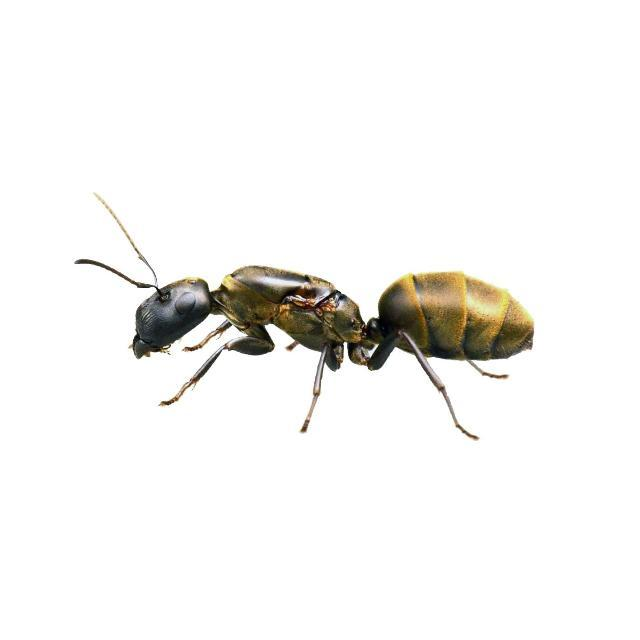Colobopsis: (125, 228, 557, 410)
